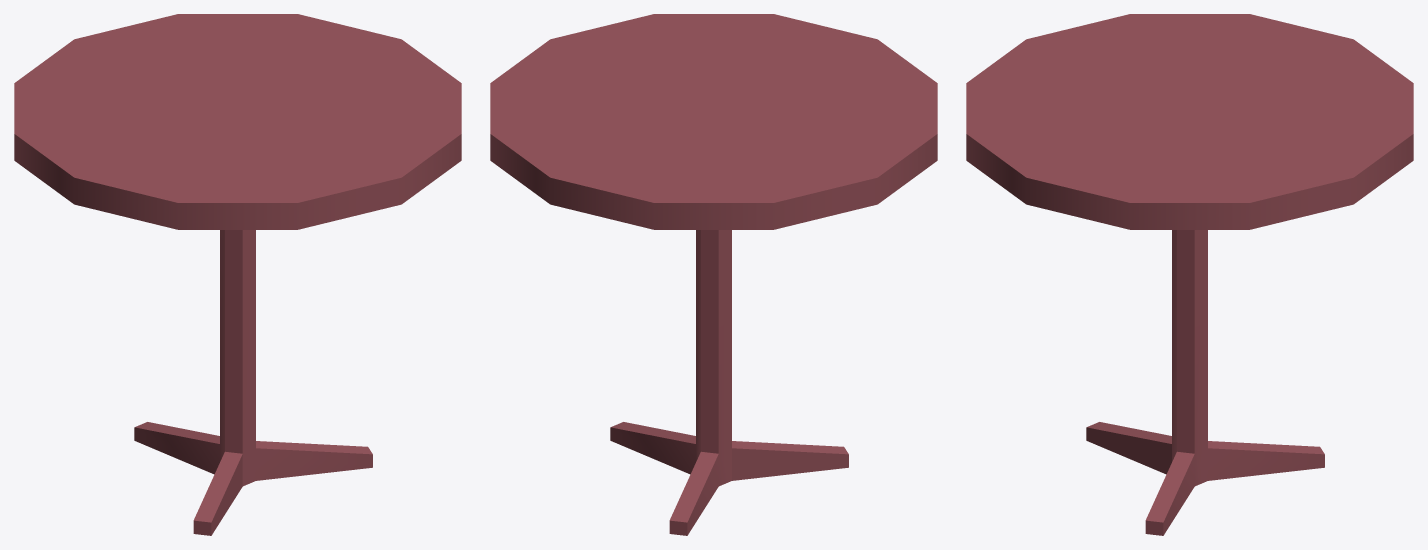
File: table round.fbx
3 views of the same model, side by side, from view 1: azimuth 30°, elevation 25°; view 2: azimuth 150°, elevation 25°; view 3: azimuth 270°, elevation 25° (orthographic).
Visible parts, largest first — view 1: table1; view 2: table1; view 3: table1.
Boxes of the visible parts, box(x1,y1,x2,y2) form: table1: box(14, 14, 461, 535); table1: box(490, 14, 937, 535); table1: box(966, 14, 1413, 535).
Bounding box in the file's own units: 47.57 × 43.48 × 47.57.
1 material, 1 textured.
